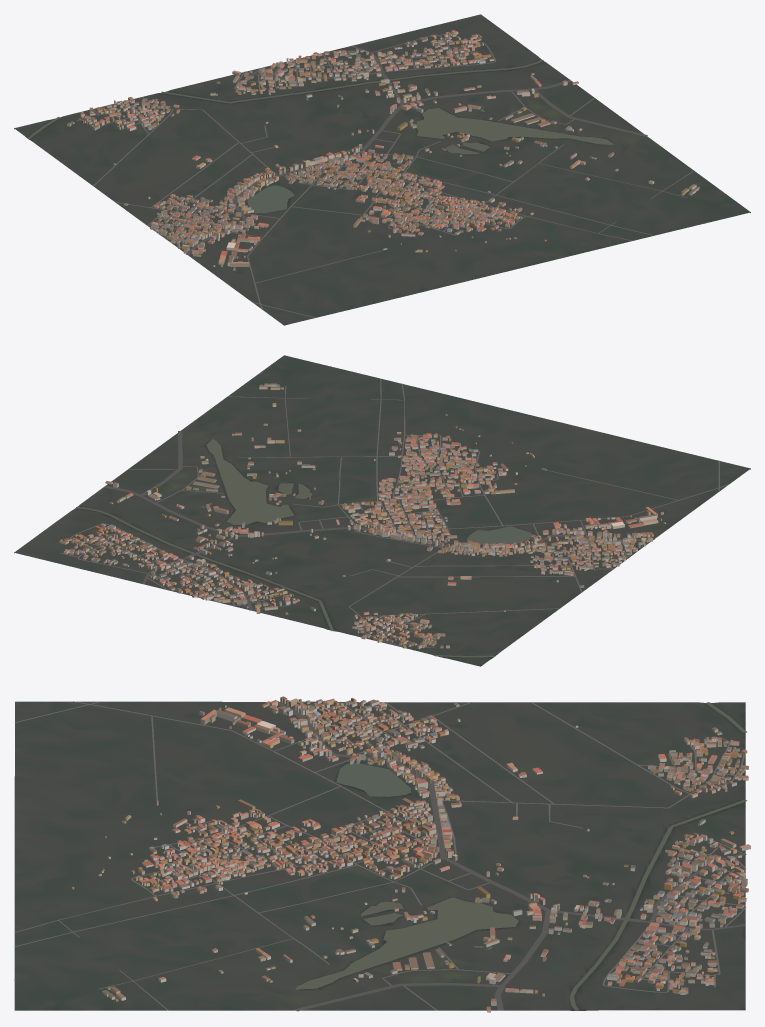
The picture shows the model from 3 angles, top to bottom: view 1: azimuth 30°, elevation 25°; view 2: azimuth 150°, elevation 25°; view 3: azimuth 270°, elevation 25°; orthographic projection. The views are drawn at different scales.
Parts seen in each view (by area): view 1: ground, buildings, roads, water; view 2: ground, buildings, roads, water; view 3: ground, buildings, roads, water.
Part boxes in pixels (x1,y1,x2,y2): ground: (14,14,750,325); buildings: (67,30,699,270); roads: (76,31,705,317); water: (27,59,614,213); ground: (14,355,750,666); buildings: (59,383,665,648); roads: (60,366,729,647); water: (76,439,532,657); ground: (14,701,745,1010); buildings: (71,696,750,1012); roads: (14,701,746,1011); water: (295,702,747,1010).
Size of the model in its own units: 1411 by 21.3 by 1414.
